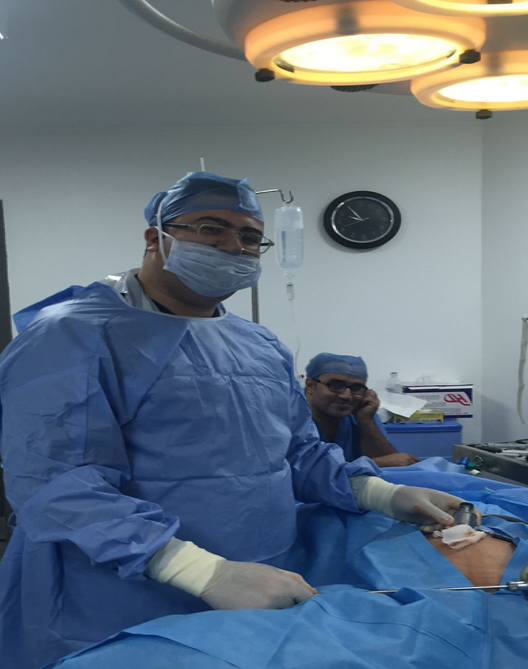mask_weared_incorrect: (143, 176, 281, 302)
